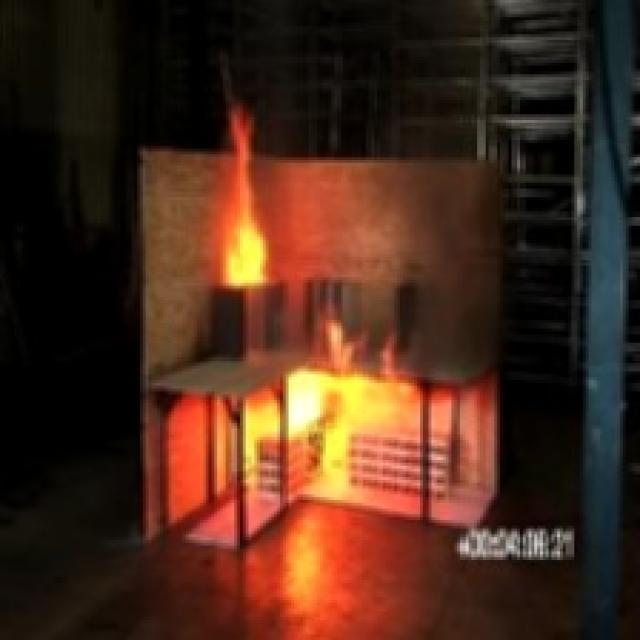fire: (193, 89, 307, 314), (257, 342, 377, 498)
